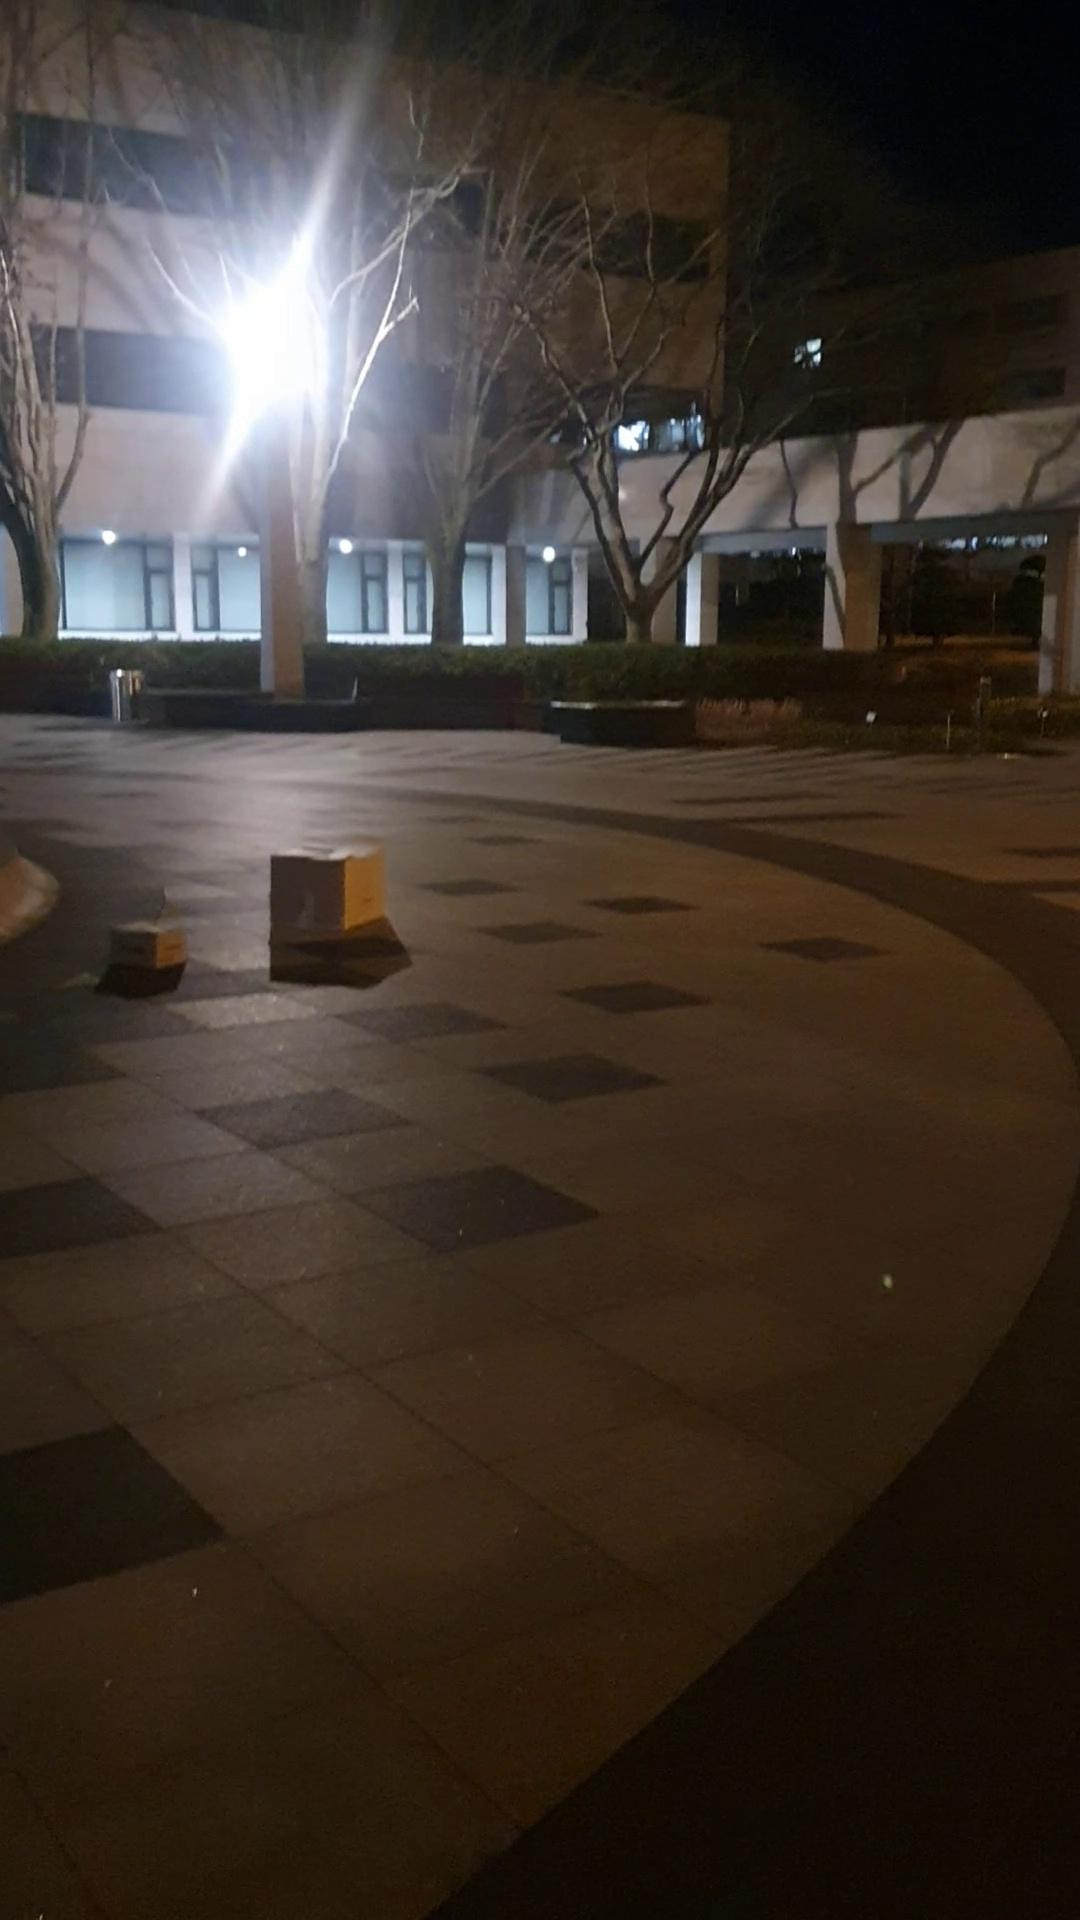Box: (268, 840, 386, 952), (113, 920, 185, 971)
